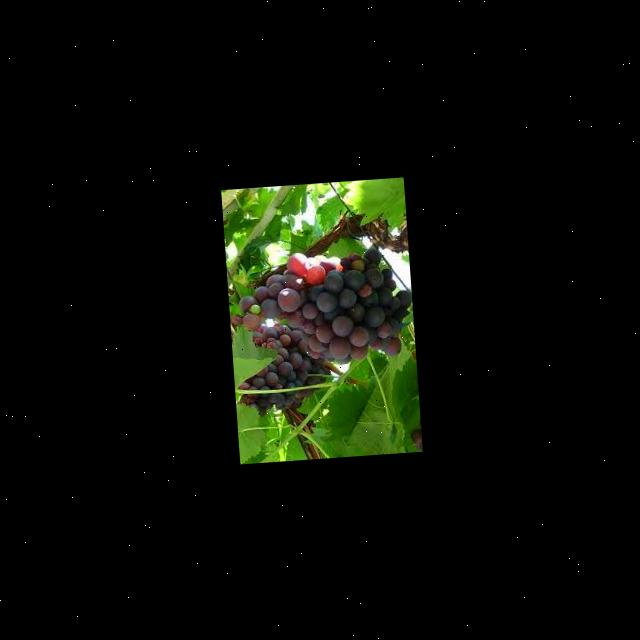grape: (225, 243, 418, 418)
